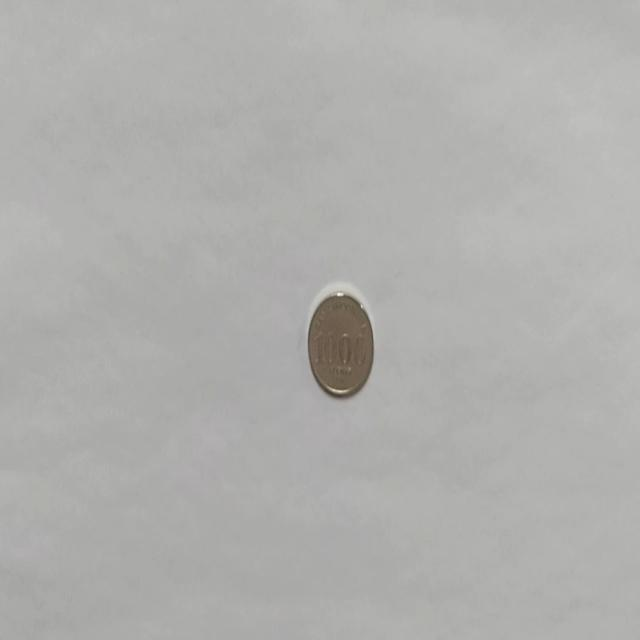seribu rupiah koin: (306, 283, 374, 398)
